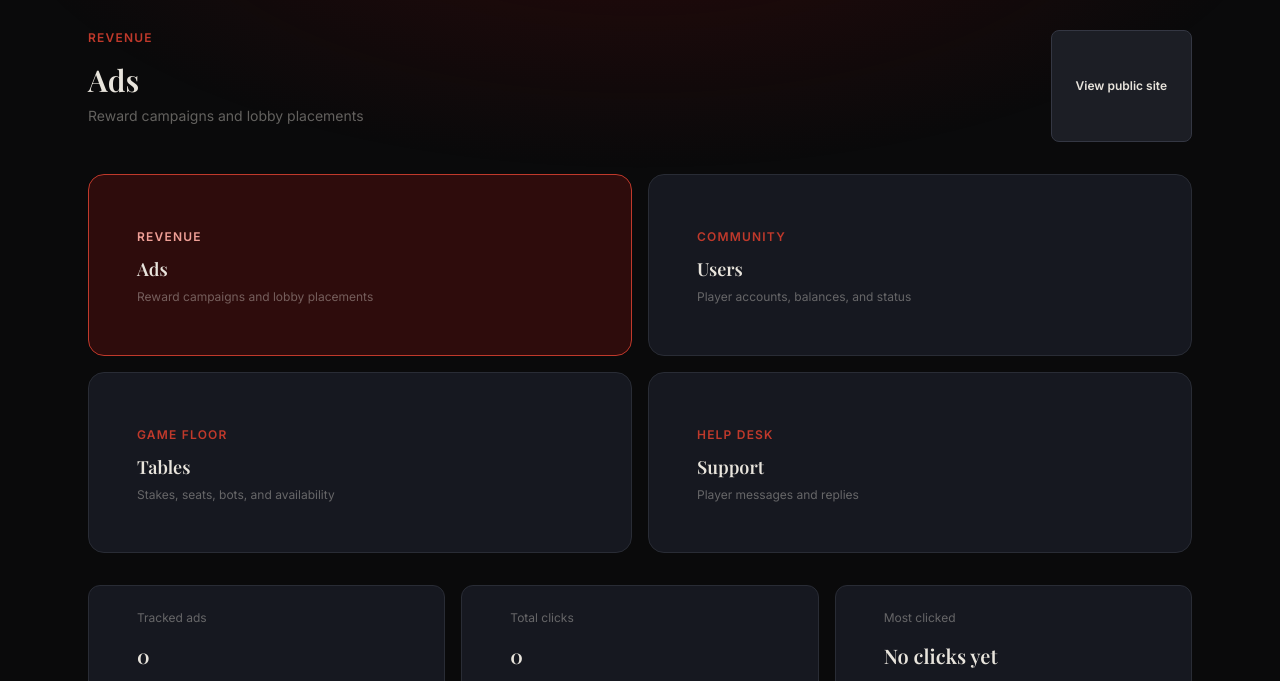
Test: AdminDashboard: record text › users use sensible defaults for missing details
What coordinates should you click on to do the following:
click the button "Community Users Player accounts, balances, and status"
I would click on:
 (741, 236)
Its box is 648,174 -> 1192,356.
(page scrolled)
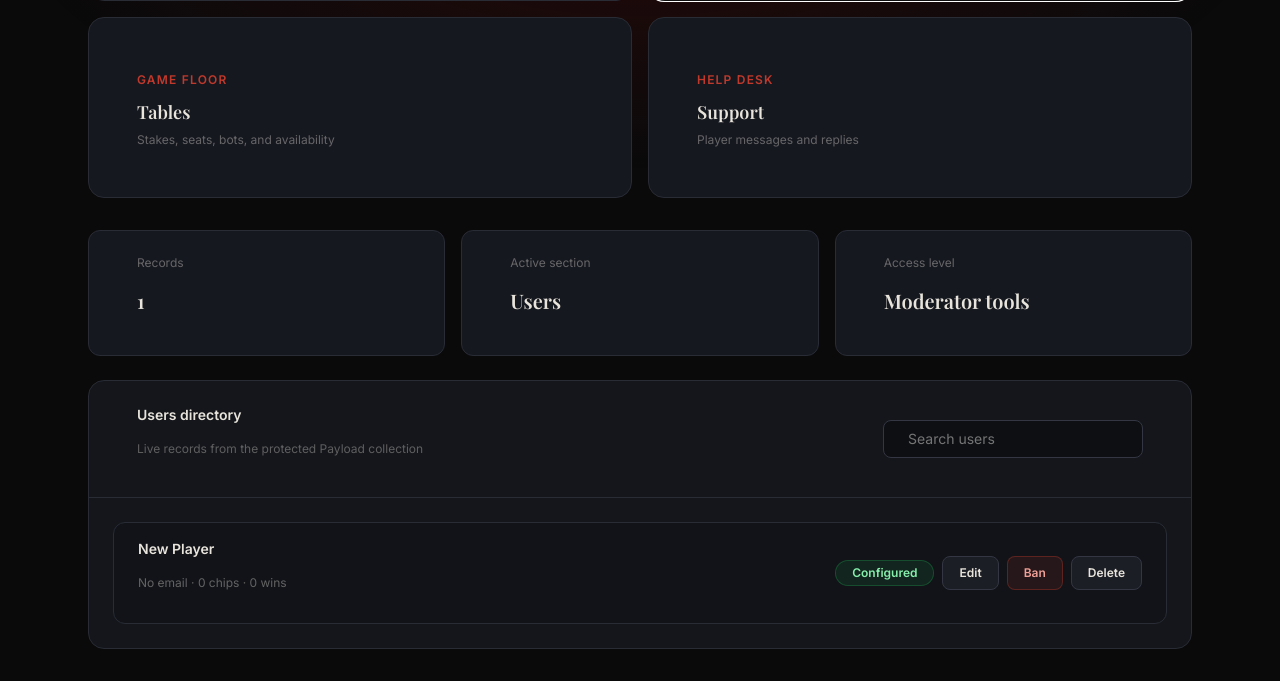
expect the text "New Player" is shown: met, box 138,540 -> 214,557
expect the text "No email · 0 chips · 0 wins" is shown: met, box 138,575 -> 287,591
